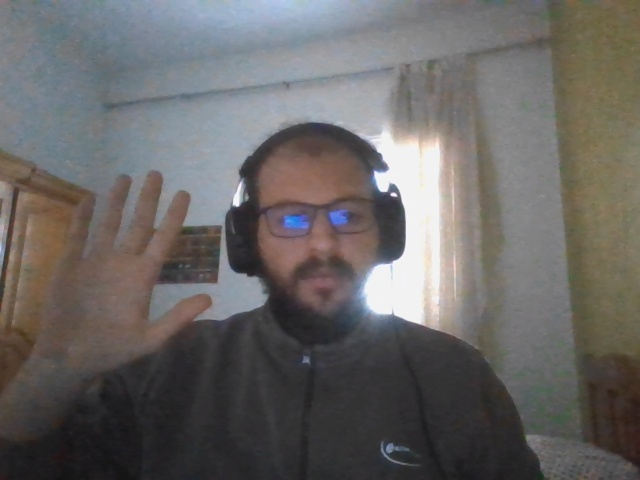Hello: (39, 170, 212, 369)
